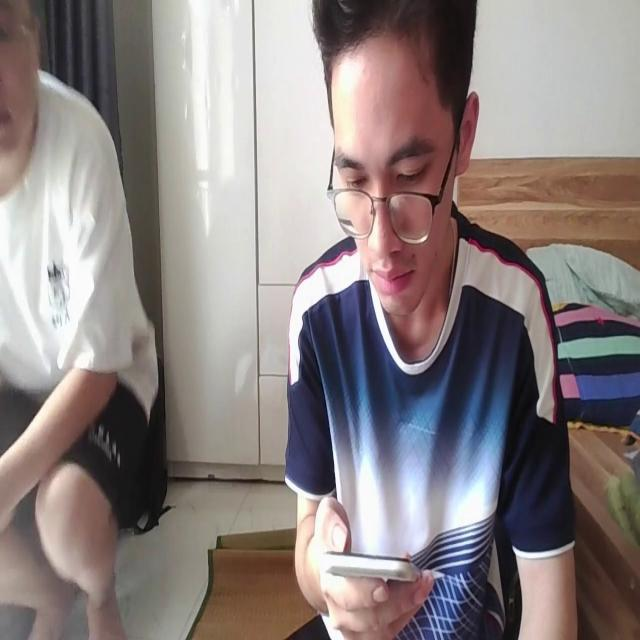extra_person: (0, 0, 171, 636)
phone: (312, 534, 437, 598)
student: (279, 2, 579, 640)
